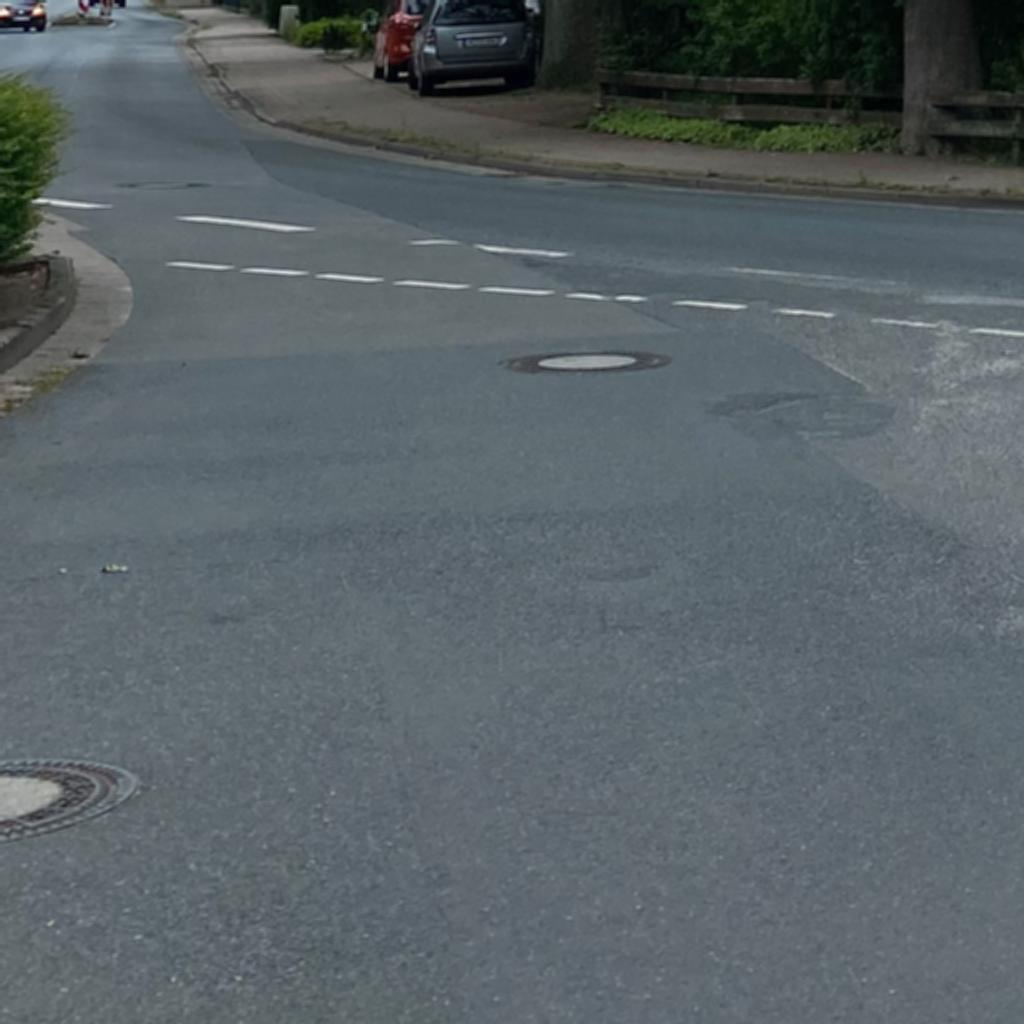tree: (893, 1, 1023, 156), (534, 1, 617, 88)
